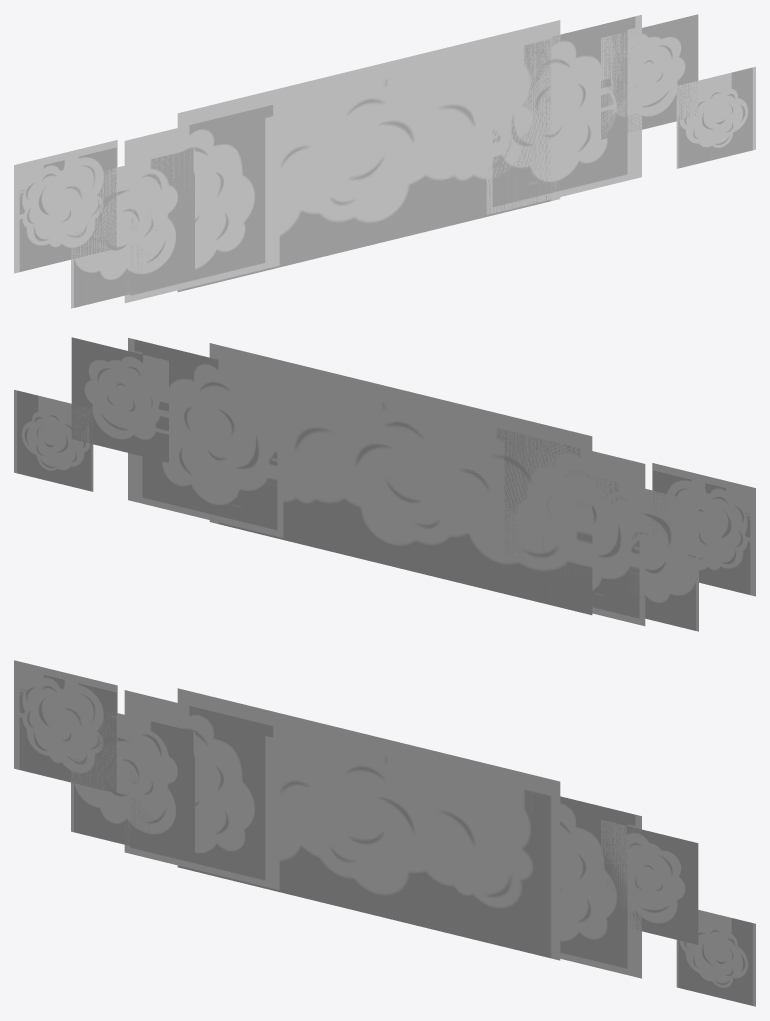
File: puff_balk_230.glb
3 renders of one model, top to bottom at view 1: azimuth 30°, elevation 25°; view 2: azimuth 150°, elevation 25°; view 3: azimuth 330°, elevation 25°, orthographic.
Visible parts, largest first — view 1: puff6, puff5, puff5_1, puff1, puff2, puff3, puff4; view 2: puff6, puff5, puff5_1, puff3, puff1, puff2, puff4; view 3: puff6, puff5_1, puff1, puff5, puff2, puff3, puff4.
Part boxes in pixels (box(x1,y1,x2,y2)): puff6: box(177, 20, 560, 292); puff5: box(486, 15, 641, 214); puff5_1: box(124, 103, 279, 303); puff1: box(71, 148, 194, 308); puff2: box(14, 140, 117, 273); puff3: box(601, 14, 698, 139); puff4: box(676, 66, 755, 168); puff6: box(209, 343, 592, 615); puff5: box(128, 338, 283, 537); puff5_1: box(490, 426, 645, 626); puff3: box(71, 337, 168, 462); puff1: box(596, 477, 698, 631); puff2: box(652, 463, 755, 596); puff4: box(14, 389, 93, 491); puff6: box(177, 688, 560, 960); puff5_1: box(124, 690, 279, 889); puff1: box(71, 702, 194, 861); puff5: box(560, 796, 641, 978); puff2: box(14, 660, 117, 793); puff3: box(601, 819, 698, 944); puff4: box(676, 910, 755, 1006).
Bounding box in the file's own units: 129 × 29.76 × 5.81e-06.
1 material, 1 textured.
